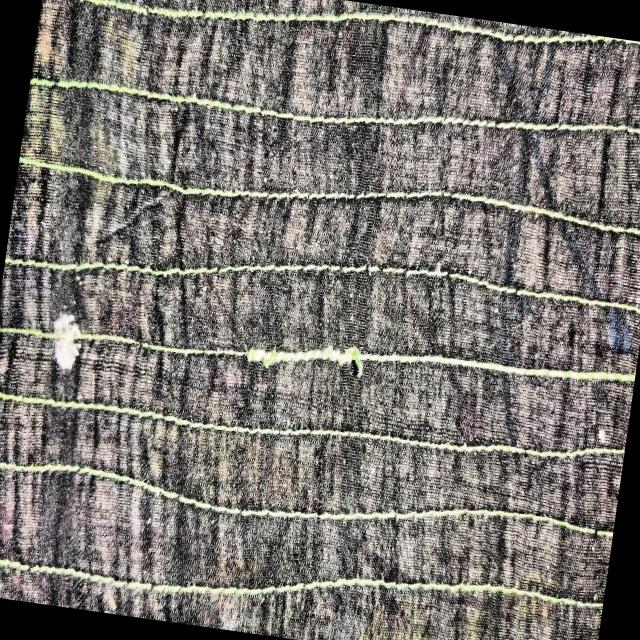gray stitch: (226, 306, 376, 415)
